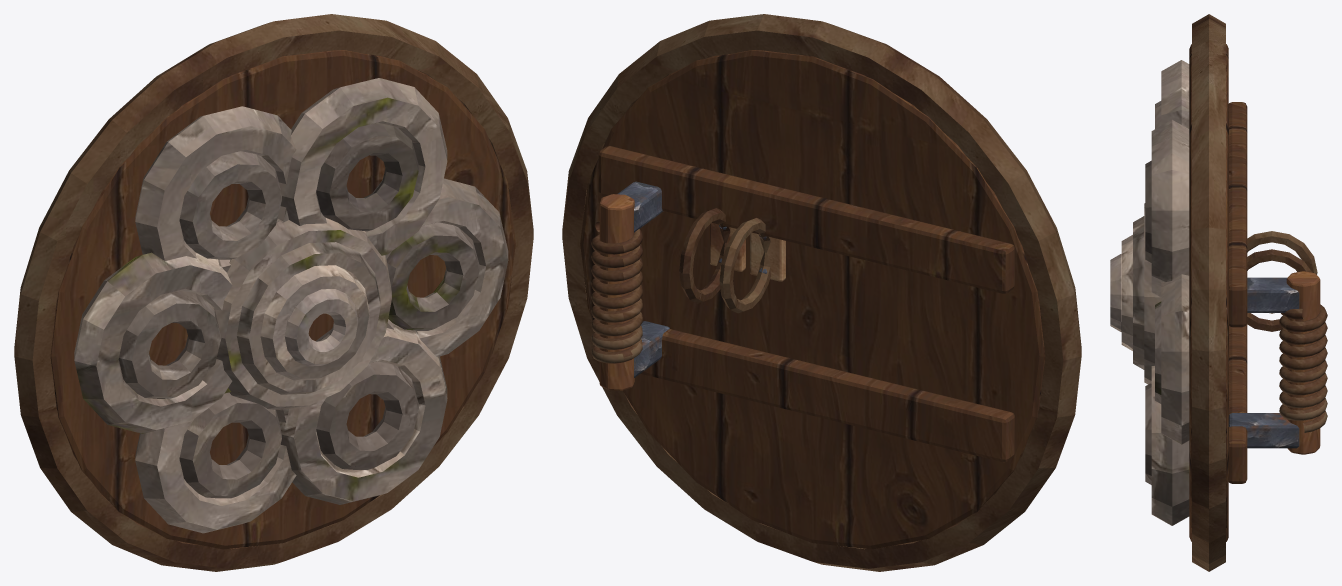
The model's file is shield_shell.glb.
3 renders of one model, left to right at view 1: azimuth 30°, elevation 25°; view 2: azimuth 150°, elevation 25°; view 3: azimuth 270°, elevation 25°, orthographic. The views are drawn at different scales.
Visible parts, largest first — view 1: model; view 2: model; view 3: model.
Part boxes in pixels (<box>): model: <box>14,14,533,571</box>; model: <box>562,14,1081,571</box>; model: <box>1110,14,1327,571</box>.
Bounding box in the file's own units: 0.71 × 0.71 × 0.2769.
7 materials, 7 textured.
